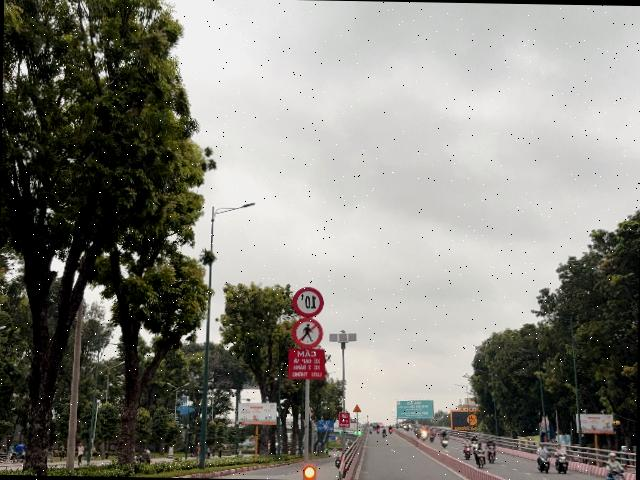cam-nguoi-di-bo: (292, 316, 324, 348)
han-che-trong-luong-xe: (292, 286, 324, 317)
